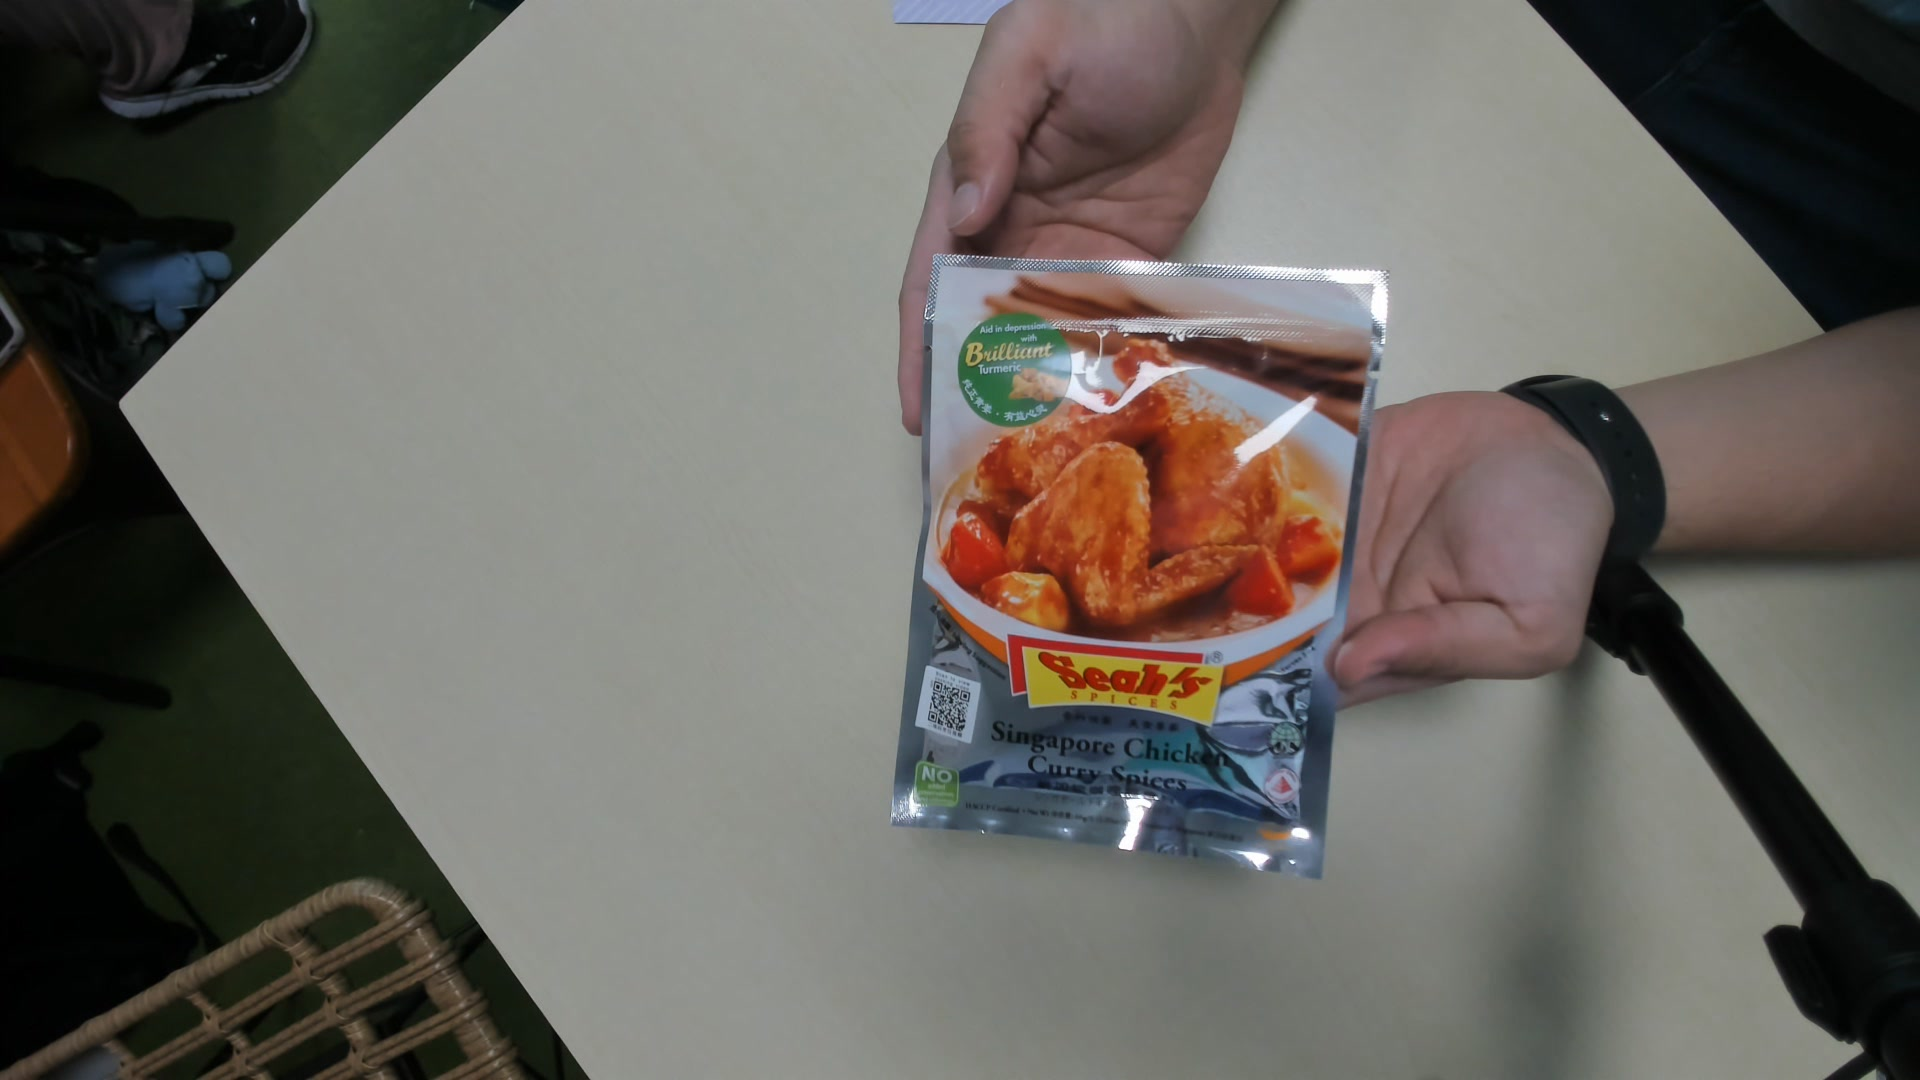CurryPastePowderSauce_0-99g_Halal_Healthy: (909, 253, 1366, 884)
